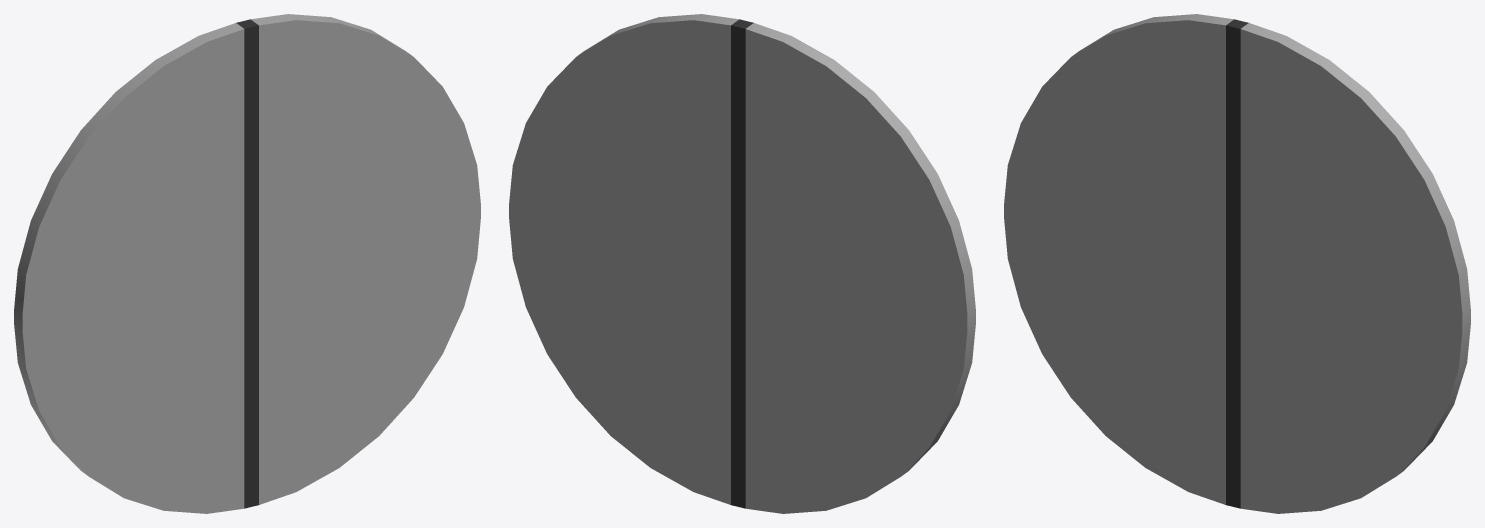
Rendered from House_Door_Sphere.obj.
The picture shows the model from 3 angles, left to right: view 1: azimuth 30°, elevation 25°; view 2: azimuth 150°, elevation 25°; view 3: azimuth 330°, elevation 25°; orthographic projection.
Parts seen in each view (by area): view 1: House_Door_Sphere.004; view 2: House_Door_Sphere.004; view 3: House_Door_Sphere.004.
Part boxes in pixels (<box>): House_Door_Sphere.004: <box>14,14,480,513</box>; House_Door_Sphere.004: <box>509,14,975,513</box>; House_Door_Sphere.004: <box>1004,14,1470,513</box>.
Size of the model in its own units: 2.03 by 2.03 by 0.0642.
